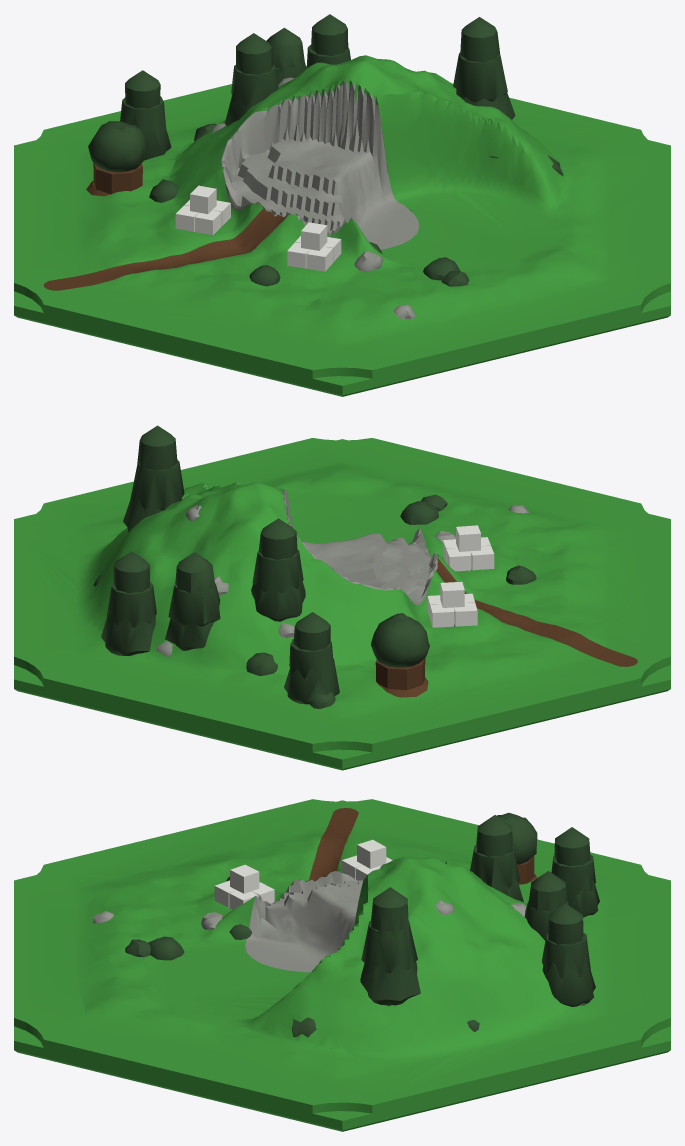
Rendered from huegel_3.glb.
3 renders of one model, top to bottom at view 1: azimuth 30°, elevation 25°; view 2: azimuth 150°, elevation 25°; view 3: azimuth 270°, elevation 25°, orthographic.
Visible parts, largest first — view 1: huegel_3; view 2: huegel_3; view 3: huegel_3.
Boxes of the visible parts, box(x1,y1,x2,y2) form: huegel_3: box(14, 14, 670, 396); huegel_3: box(14, 425, 670, 770); huegel_3: box(14, 799, 670, 1131).
Bounding box in the file's own units: 65.24 × 15.63 × 56.5.
